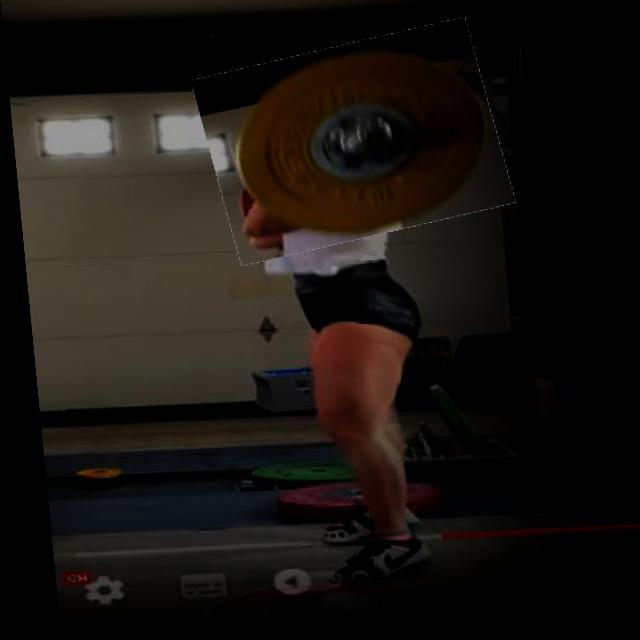barbell: (195, 33, 508, 259)
